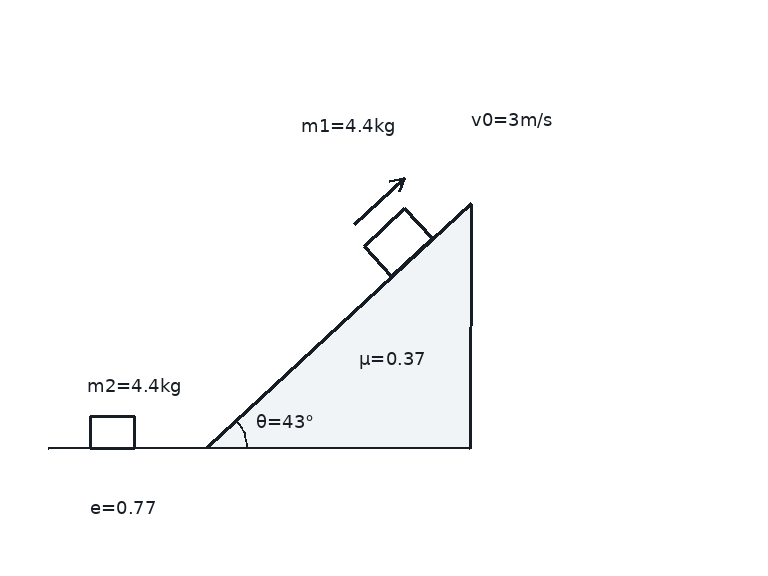block: (361, 206, 434, 278), (88, 414, 136, 450)
ramp: (205, 201, 472, 450)
